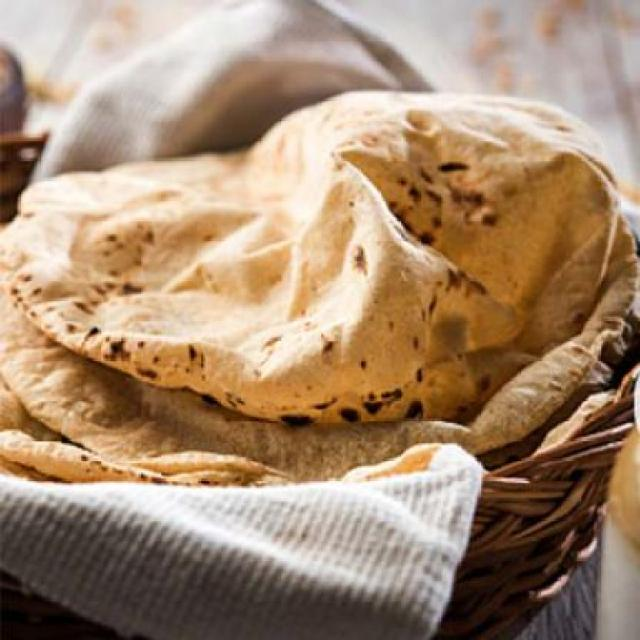chapati: (0, 90, 638, 487)
